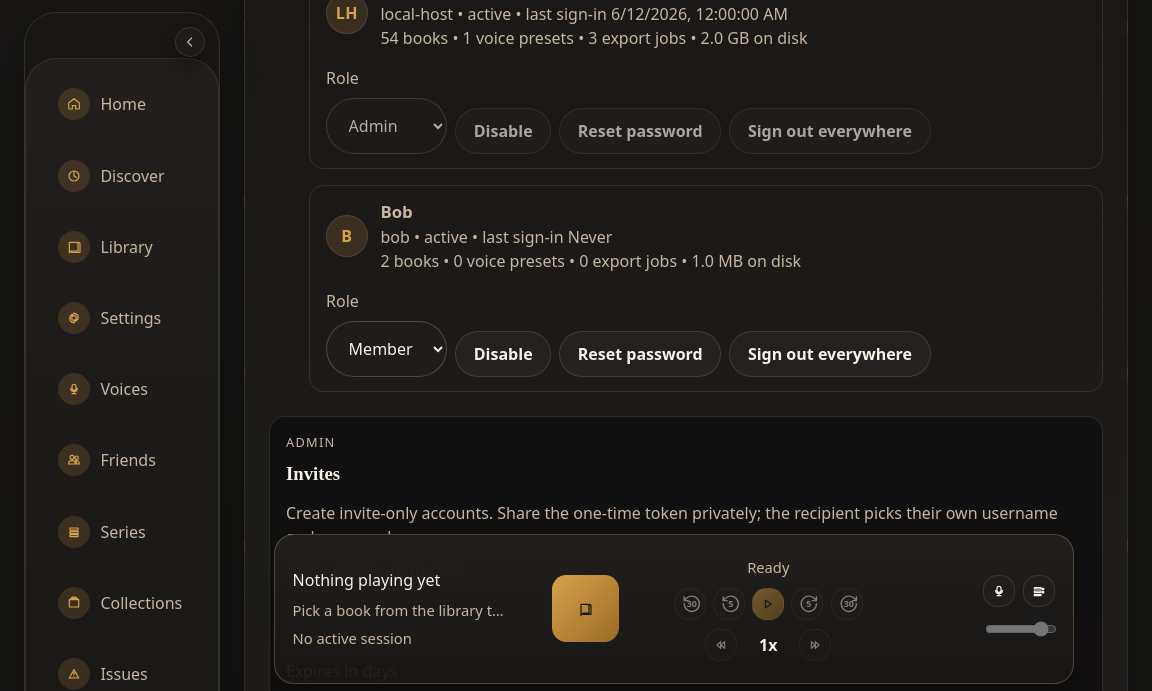
it: AdminPage › changes a member's role through the role select
(page scrolled)
Select "Admin" in the dropdown named "Role for bob" at point(387, 349), box top-left (326, 321), bottom-right (447, 377)
(page scrolled)
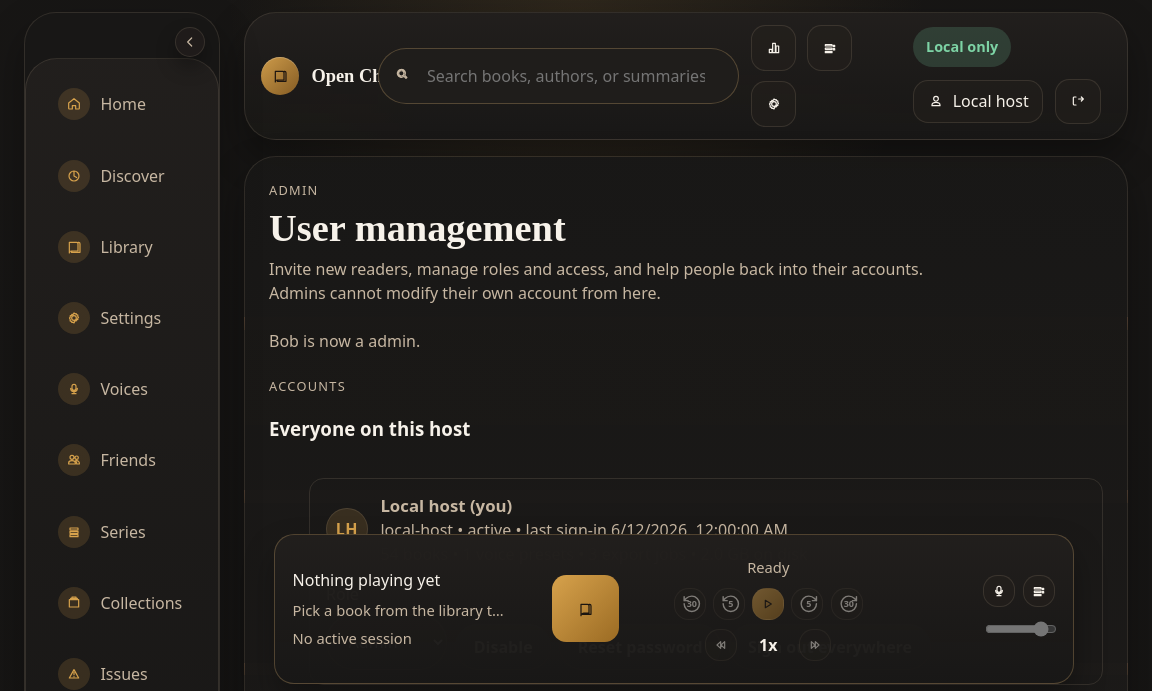
expect the text "Bob is now a admin." is shown: met, box top-left (269, 330), bottom-right (420, 352)
